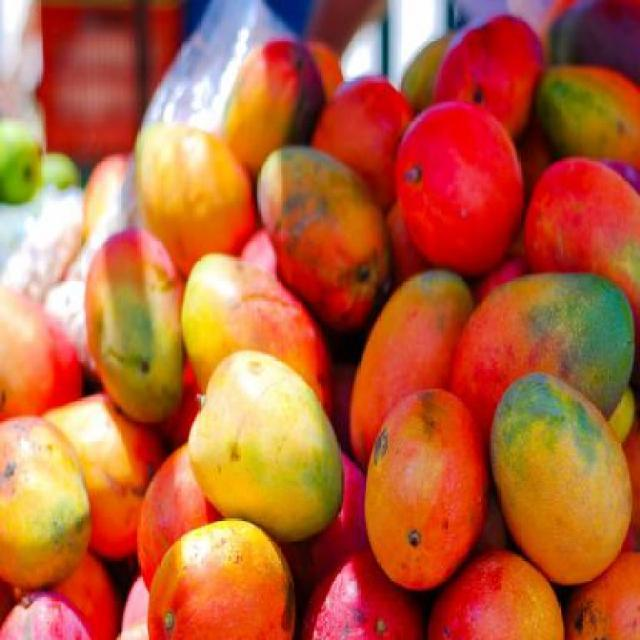Mango: (1, 13, 640, 639), (491, 374, 631, 584), (190, 370, 335, 544)
